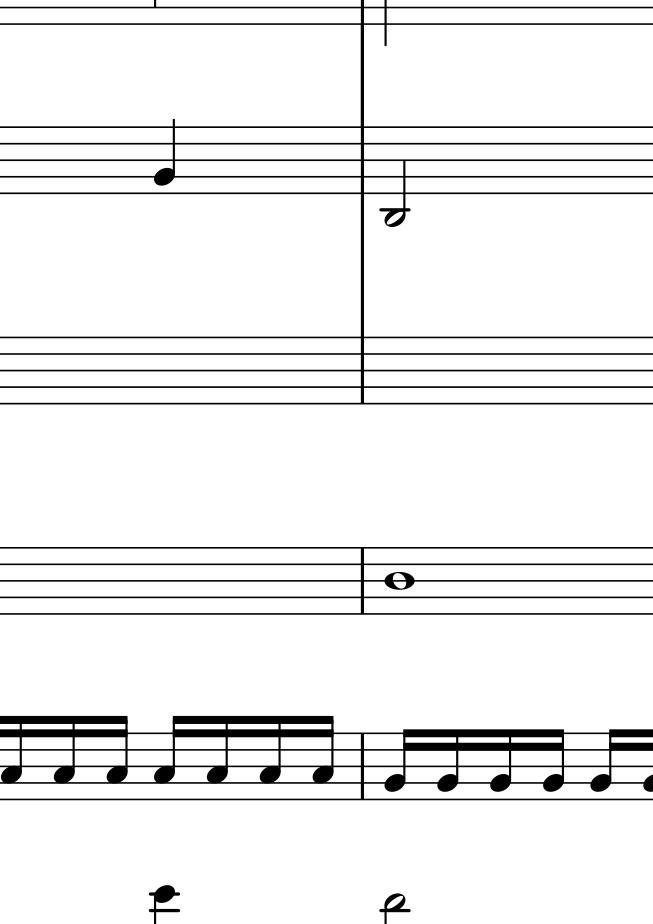16_2: (588, 725, 623, 803), (381, 726, 416, 803), (537, 725, 568, 802), (432, 726, 462, 801), (487, 728, 516, 804)
16_3: (150, 714, 185, 805), (203, 714, 232, 803), (257, 713, 285, 803), (309, 712, 337, 802), (52, 713, 79, 802), (1, 713, 25, 804), (105, 714, 129, 802)
1_4: (382, 543, 416, 617)
2_-3: (380, 123, 410, 231)
4_2: (154, 116, 178, 197)
Single_barline: (352, 337, 370, 403), (353, 731, 370, 799), (353, 547, 370, 612), (354, 126, 369, 198)
